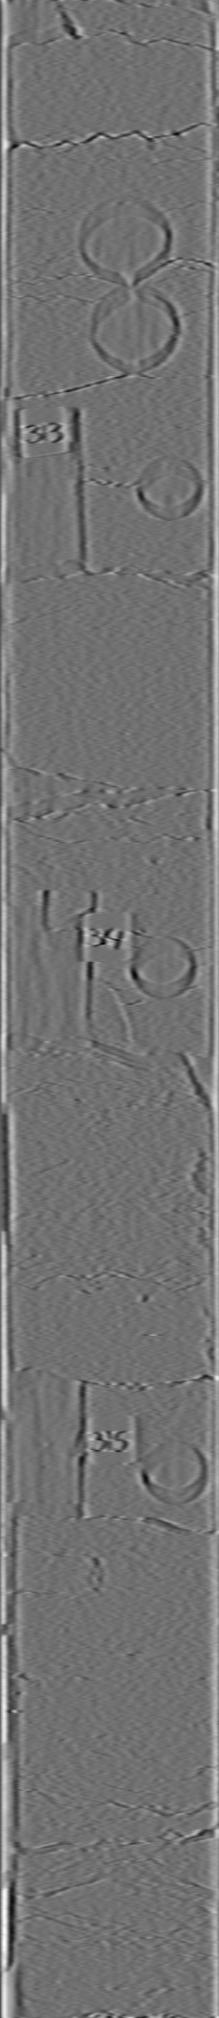hplug: (125, 447, 207, 525), (133, 1435, 214, 1513), (128, 930, 200, 1000)
scal: (79, 287, 183, 377), (79, 197, 182, 287)
vplug: (14, 404, 91, 583), (15, 1365, 89, 1533), (35, 882, 97, 1066)
